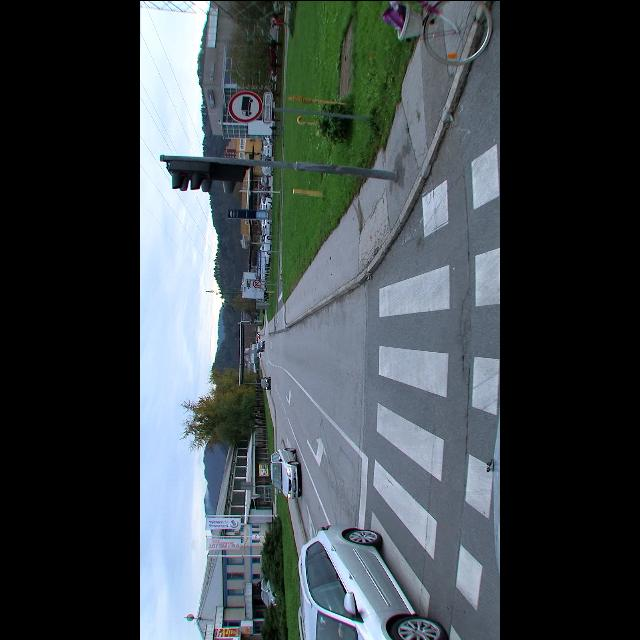Rectangle: (263, 90, 273, 122)
Round: (227, 90, 263, 122), (253, 279, 263, 287)
